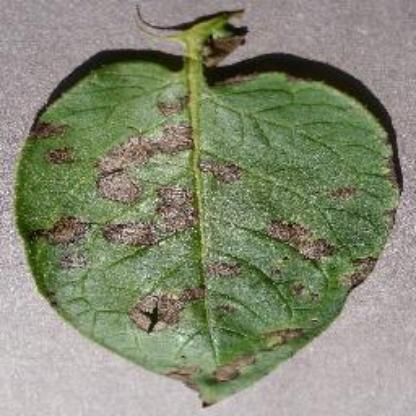Early-Blight: (14, 0, 412, 412)
